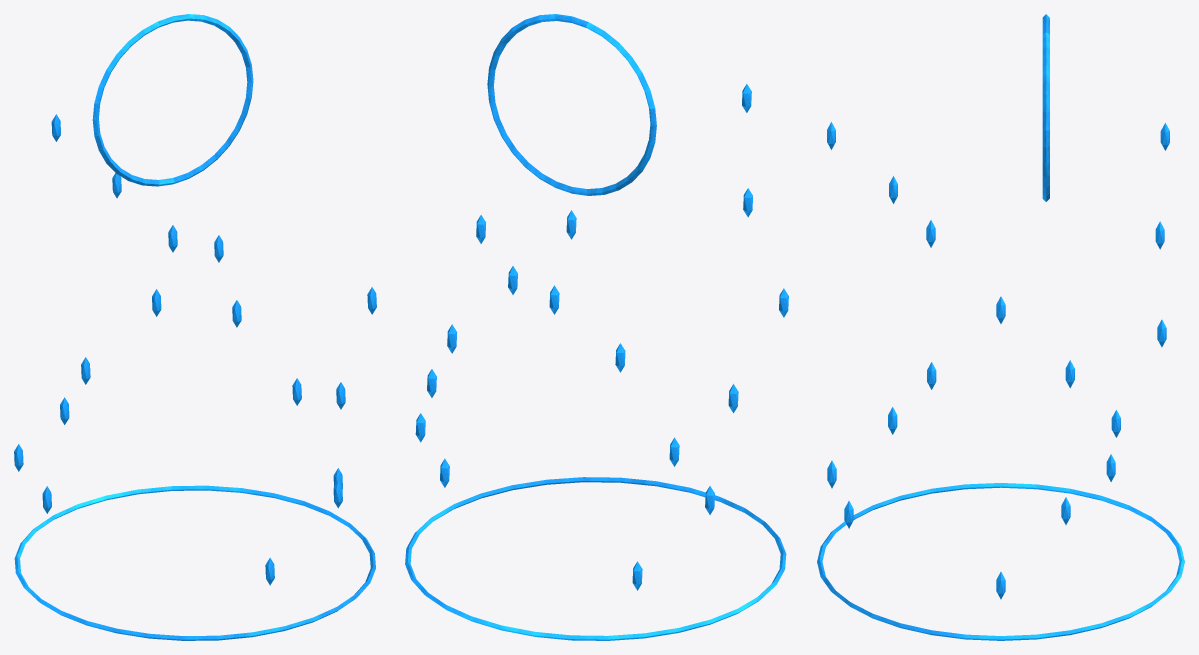
Rendered from aura-ice.glb.
3 renders of one model, left to right at view 1: azimuth 30°, elevation 25°; view 2: azimuth 150°, elevation 25°; view 3: azimuth 270°, elevation 25°, orthographic. The views are drawn at different scales.
Visible parts, largest first — view 1: GroundRing, BackHalo; view 2: GroundRing, BackHalo; view 3: GroundRing, BackHalo.
Boxes of the visible parts, x1,y1,x2,y2 form: GroundRing: [14, 485, 375, 640]; BackHalo: [92, 14, 253, 186]; GroundRing: [405, 477, 786, 640]; BackHalo: [487, 14, 656, 195]; GroundRing: [817, 483, 1184, 640]; BackHalo: [1042, 14, 1049, 201].
Bounding box in the file's own units: 0.812 × 1.32 × 0.812.
Materials: 1 (1 with a texture image).
